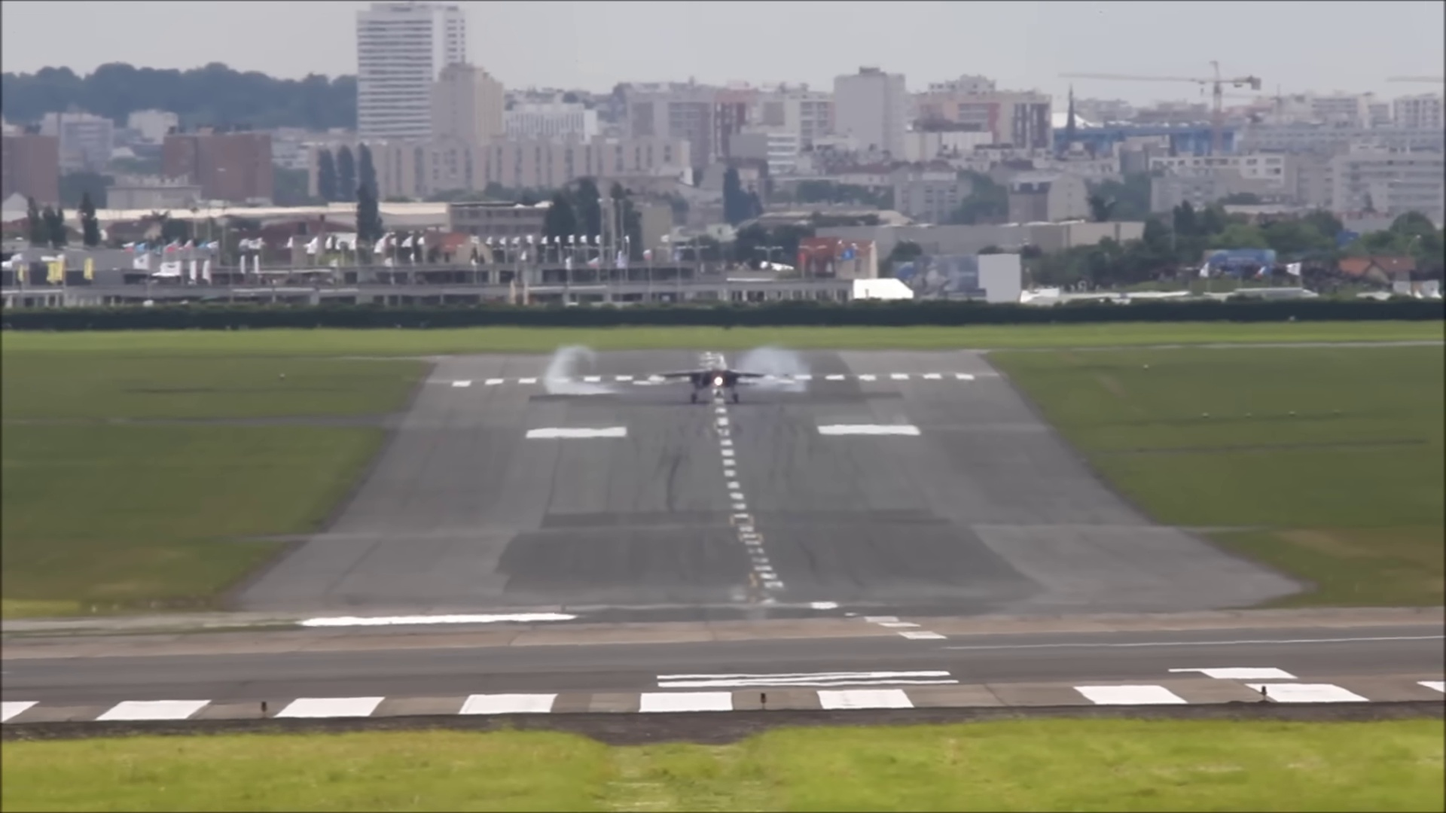Su35: (648, 341, 774, 410)
